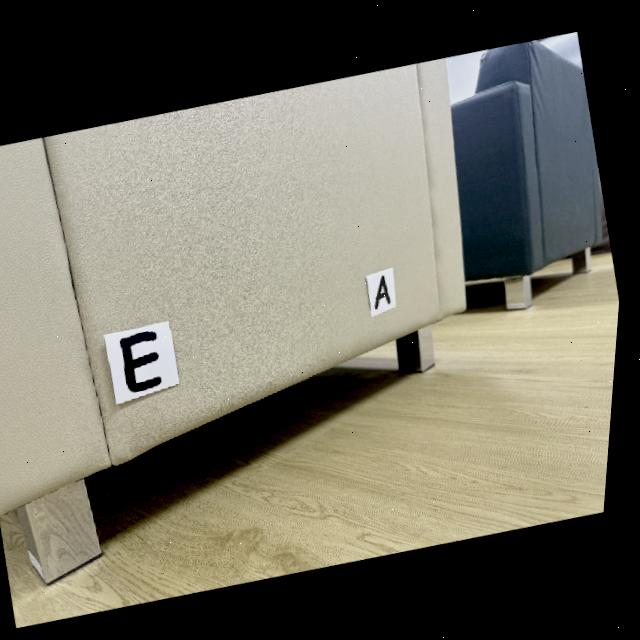A: (380, 272, 396, 306)
E: (125, 330, 168, 391)
